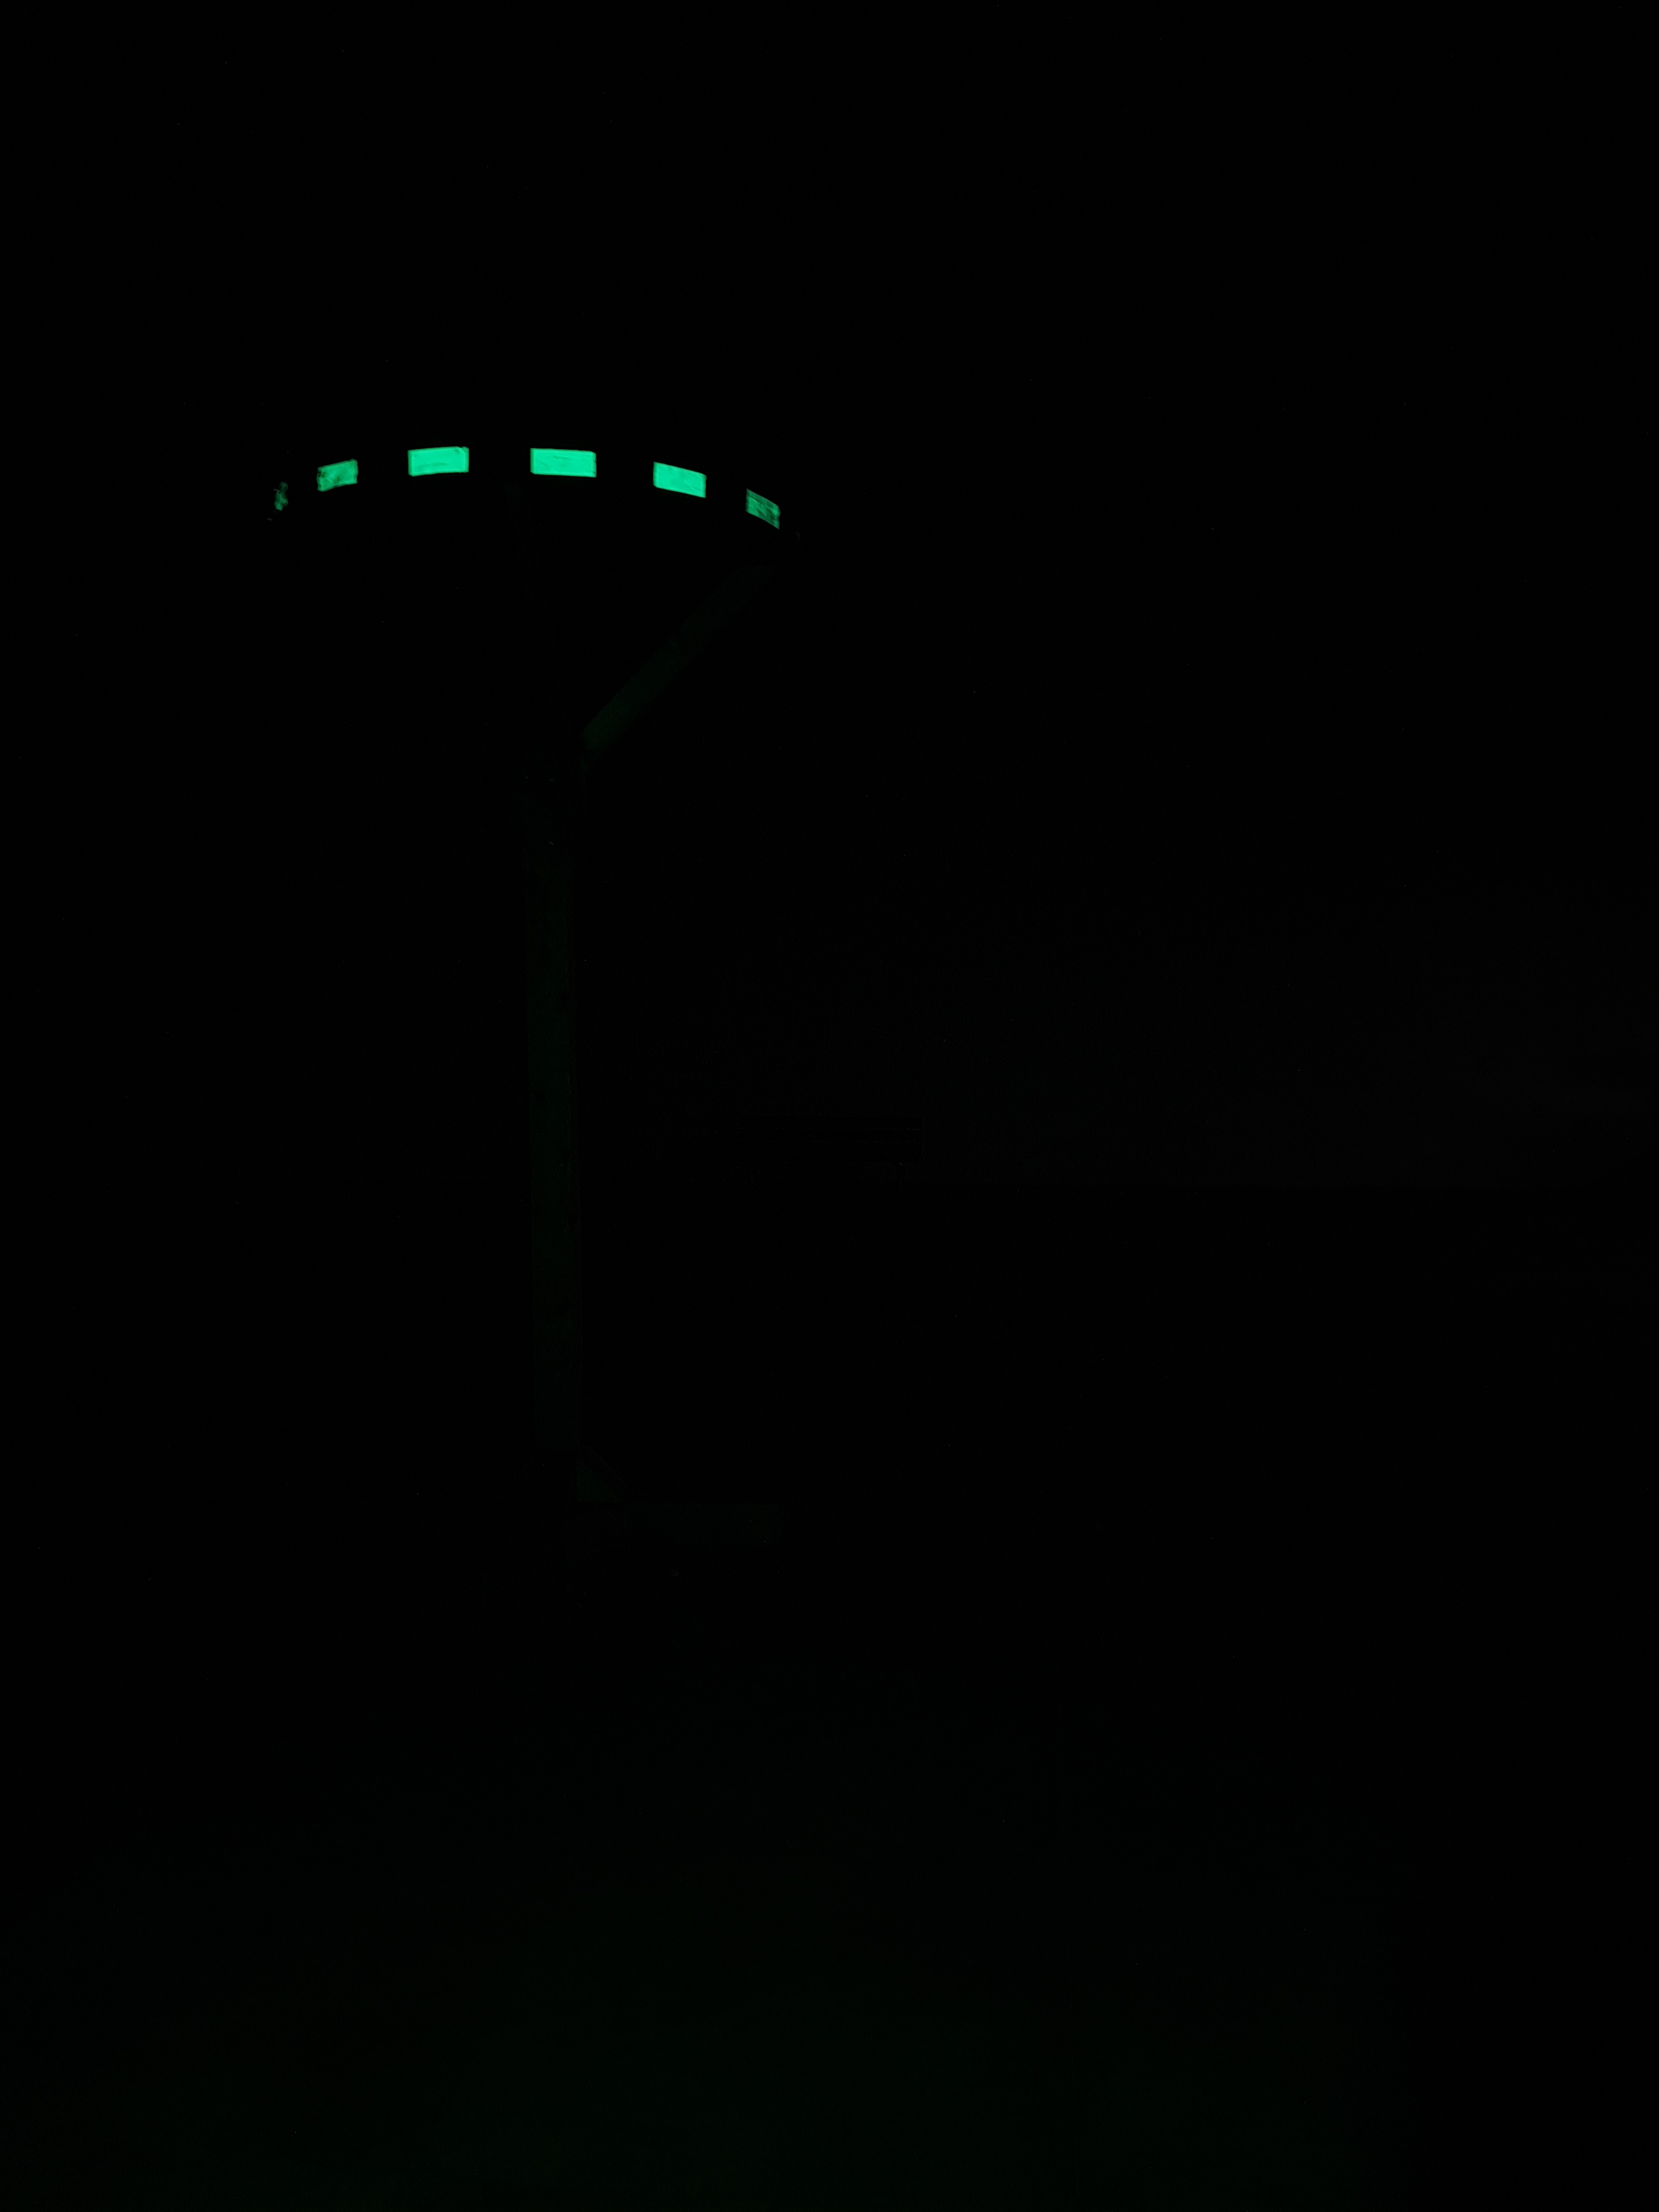hoop: (272, 437, 786, 545)
